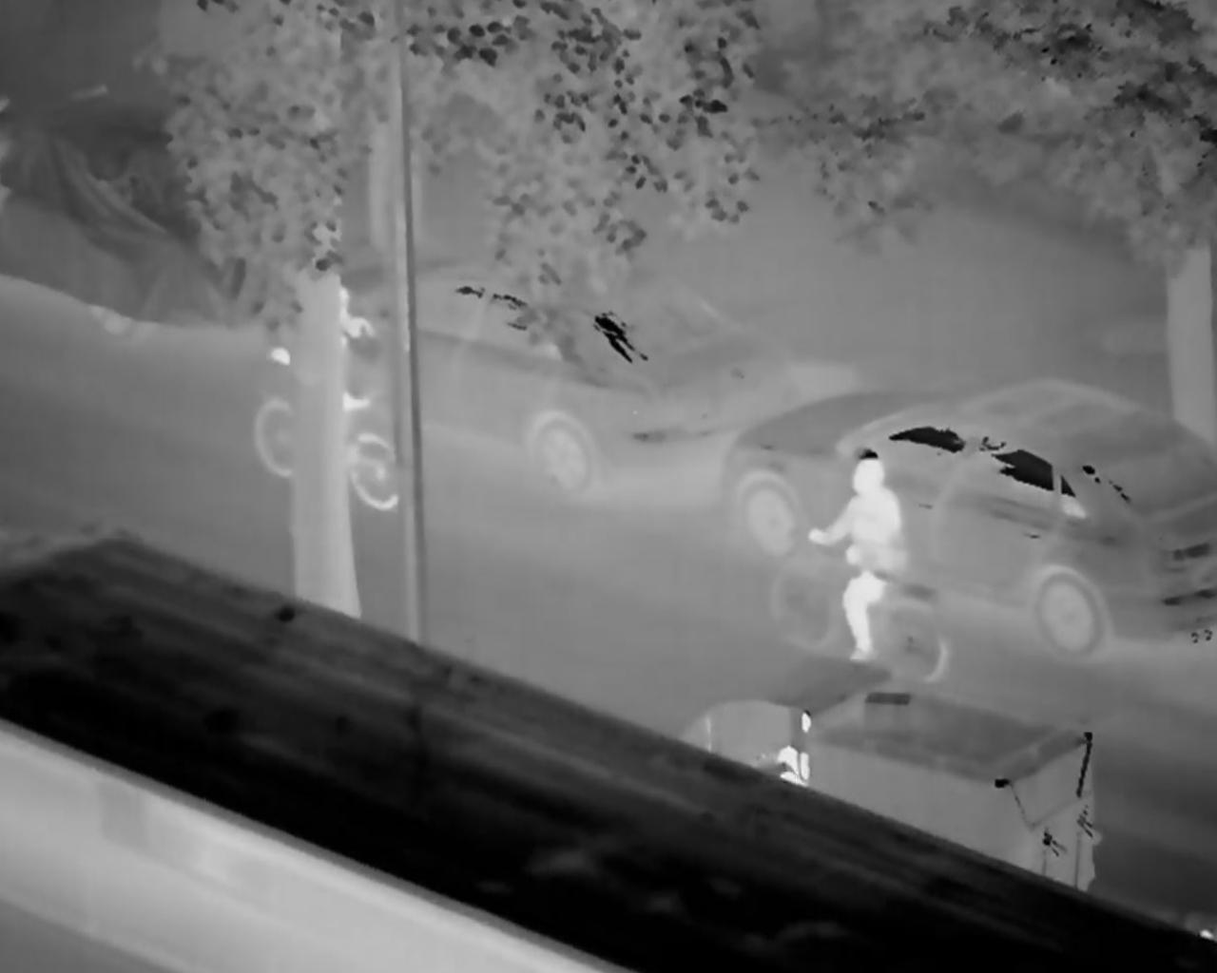person: (806, 454, 918, 665), (264, 285, 381, 414)
